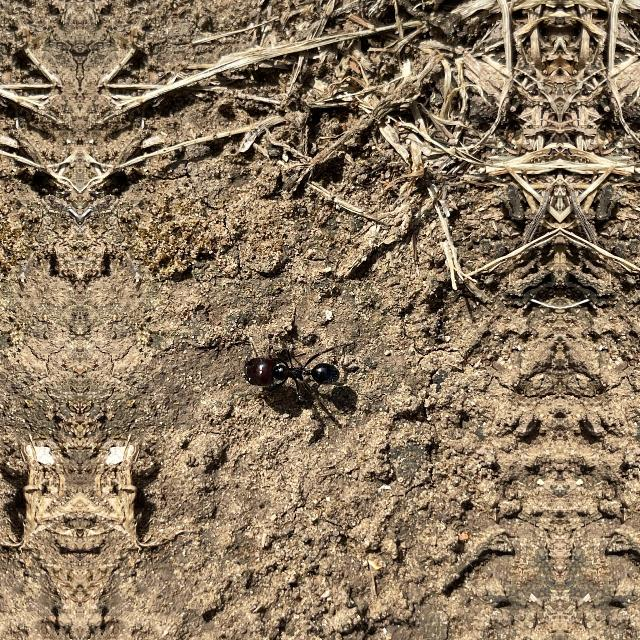Messor: (231, 330, 387, 402)
